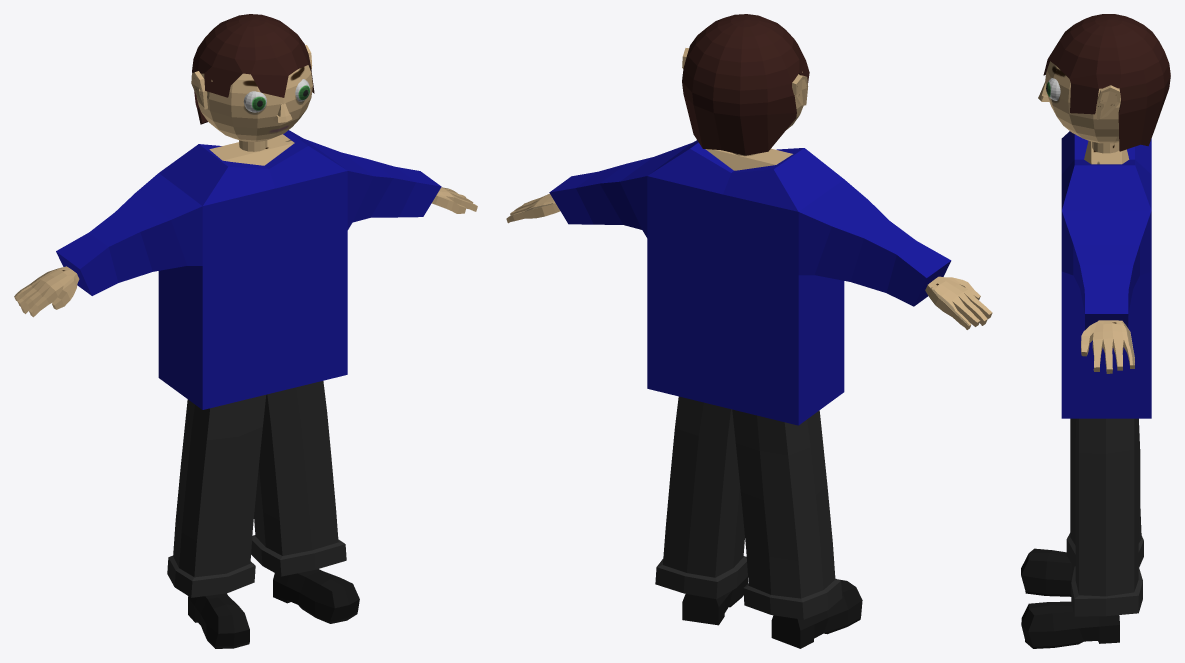
Rendered from boy_lowpoly.JOINED.fbx.
The picture shows the model from 3 angles, left to right: view 1: azimuth 30°, elevation 25°; view 2: azimuth 150°, elevation 25°; view 3: azimuth 270°, elevation 25°; orthographic projection. The views are drawn at different scales.
Parts seen in each view (by area): view 1: Cube; view 2: Cube; view 3: Cube.
Boxes of the visible parts, x1=… form: Cube: x1=14, y1=14, x2=477, y2=648; Cube: x1=506, y1=14, x2=992, y2=648; Cube: x1=1021, y1=14, x2=1170, y2=648.
Bounding box in the file's own units: 130 × 160 × 36.53.
